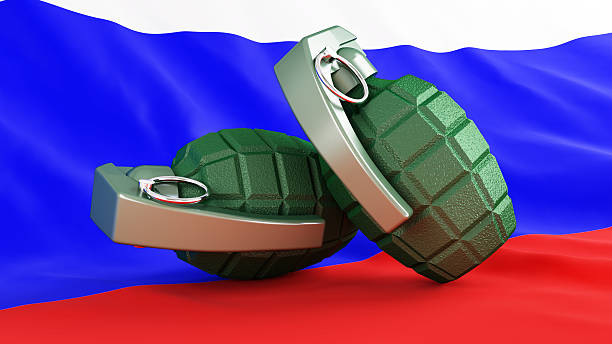e1: (273, 26, 520, 281), (85, 128, 359, 283)
